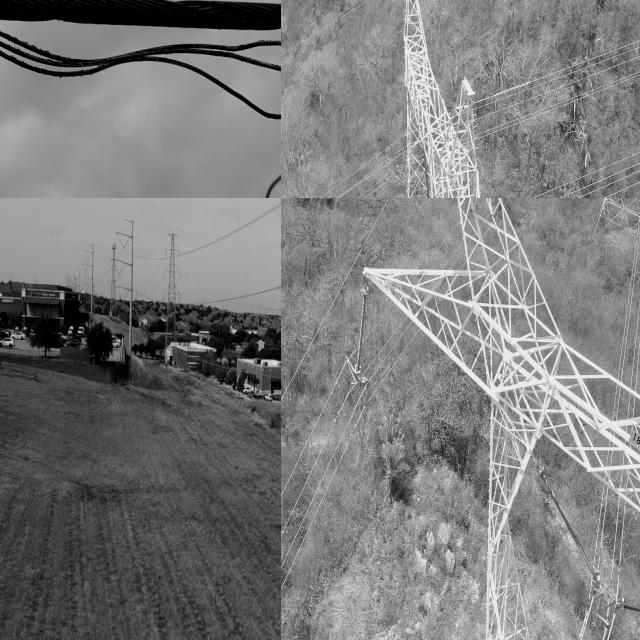杆塔: (365, 198, 640, 640), (391, 0, 503, 198), (161, 224, 188, 364), (105, 235, 124, 330)
正常绝缘子: (534, 460, 602, 589), (353, 266, 373, 388), (422, 139, 432, 198), (621, 598, 640, 620)
电缆破损: (0, 0, 281, 132)
